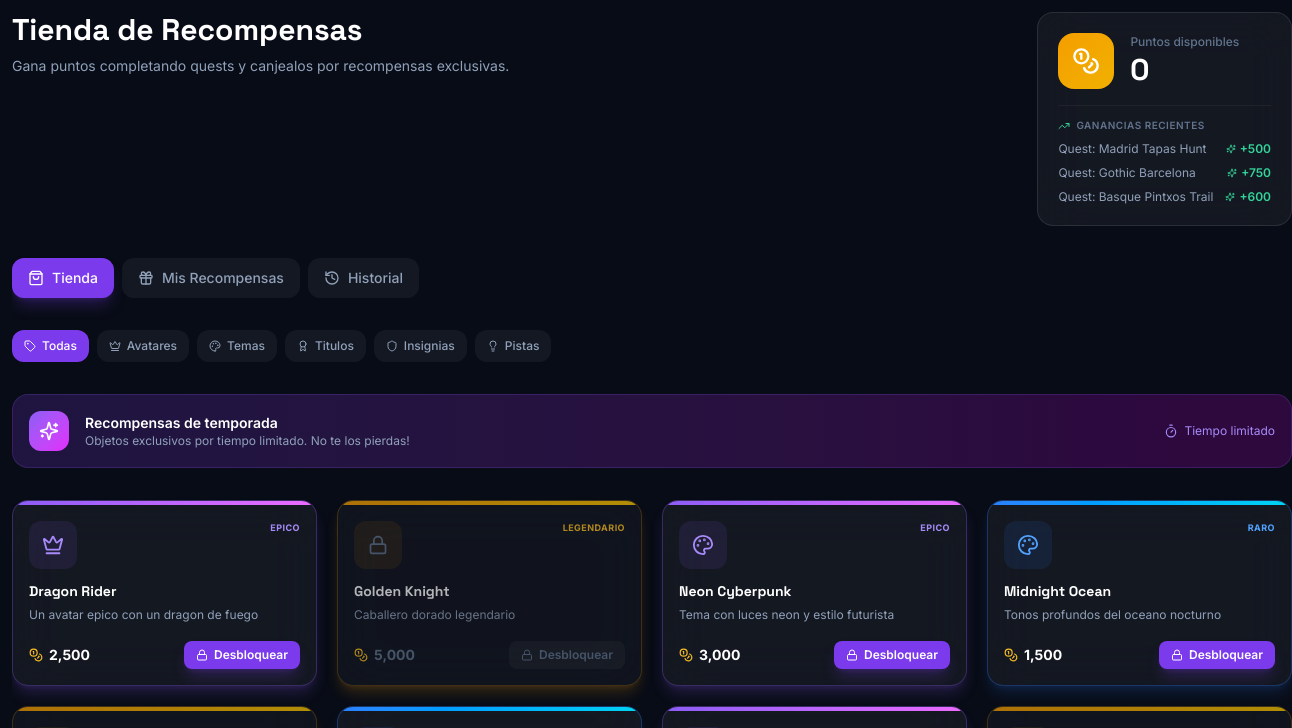
Scenario: RewardsPage › shows empty state message when no rewards match filter in owned tab
The image size is (1292, 728).
Step 1. Click the button "Mis Recompensas" → (211, 278), box [122,258,300,298]
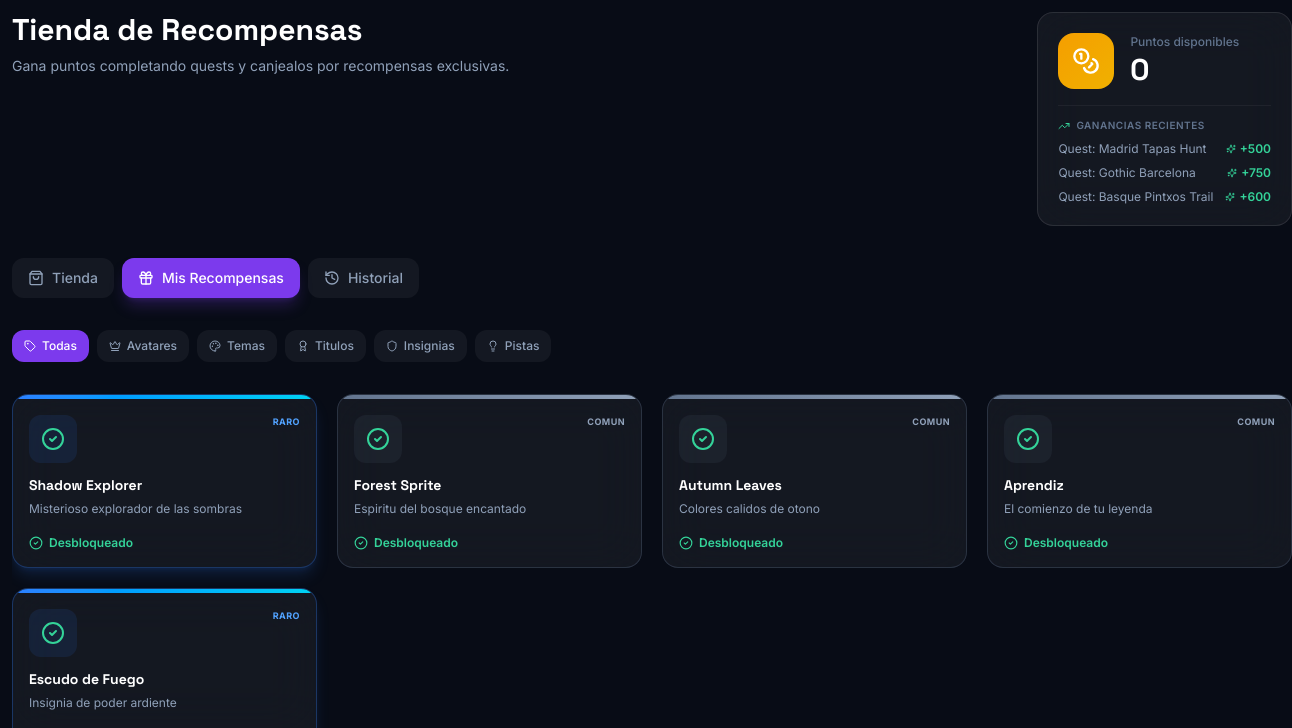
# Filter by hints category - no owned hint rewards
Step 2. Click the button "Pistas" → (513, 346), box [475,330,551,362]
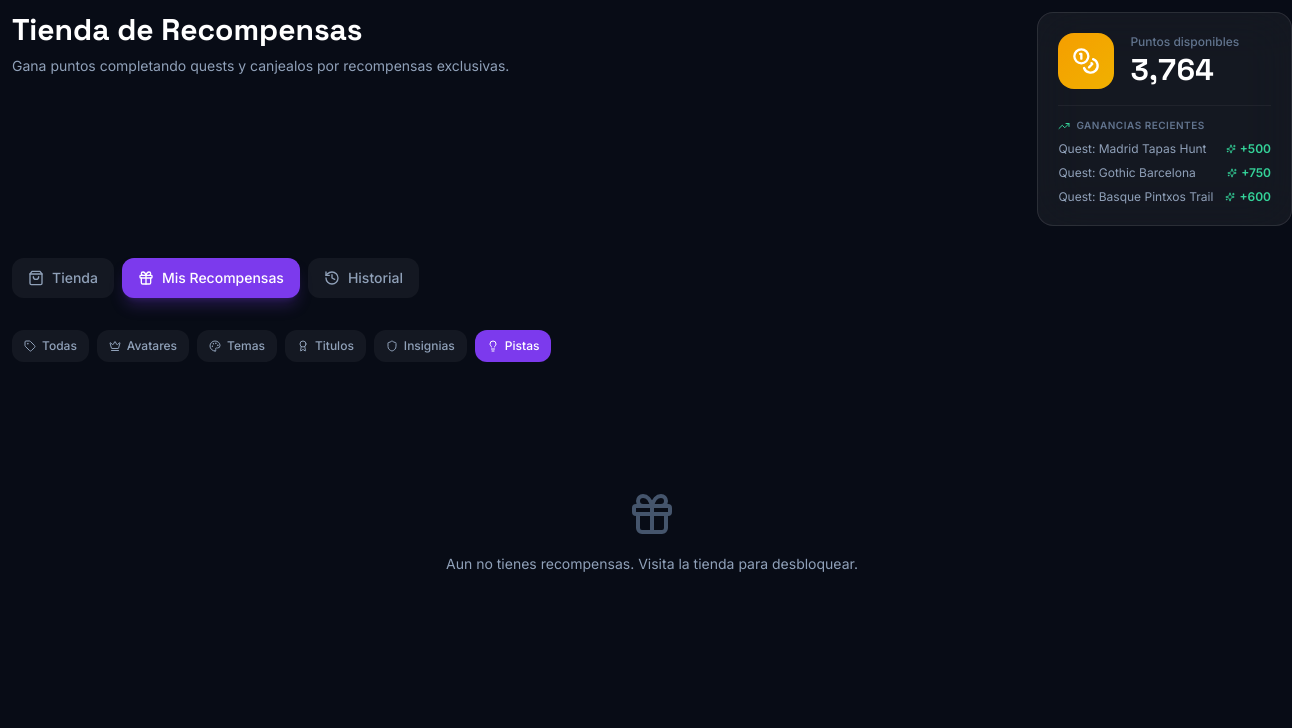
Expected: the text "Aun no tienes recompensas" is shown, [446,555,858,572]
